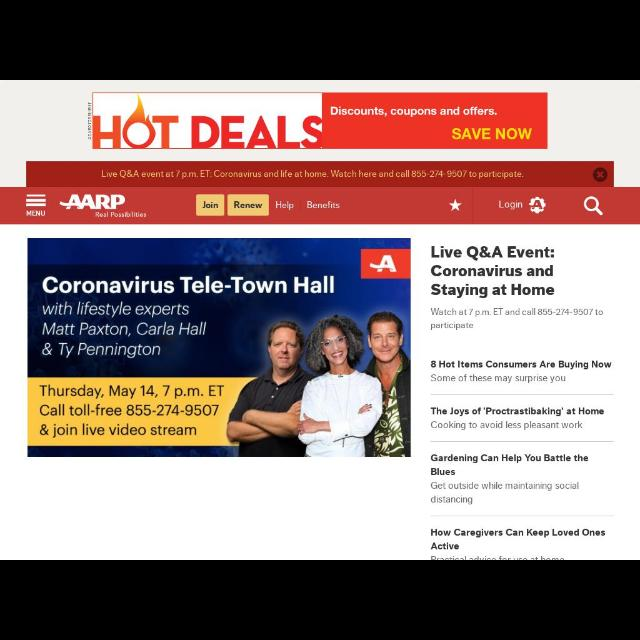icon: (584, 197, 604, 216), (27, 195, 46, 207), (593, 168, 607, 182), (448, 199, 462, 211)
iframe: (89, 94, 548, 148), (26, 161, 614, 187)
image: (28, 238, 410, 458), (59, 195, 125, 209), (530, 196, 546, 214)
text: (432, 246, 554, 298), (431, 528, 605, 550), (431, 309, 603, 331), (102, 170, 524, 178), (431, 482, 579, 504), (432, 455, 588, 475), (430, 360, 612, 370), (431, 408, 604, 417), (431, 422, 583, 431), (431, 374, 565, 384), (96, 212, 146, 218), (308, 201, 340, 209), (500, 200, 522, 210), (234, 202, 262, 208), (276, 202, 294, 210), (27, 210, 46, 216), (204, 202, 218, 208)
textbutton: (228, 194, 268, 216), (197, 194, 225, 216)
toolbar: (26, 195, 604, 218)
